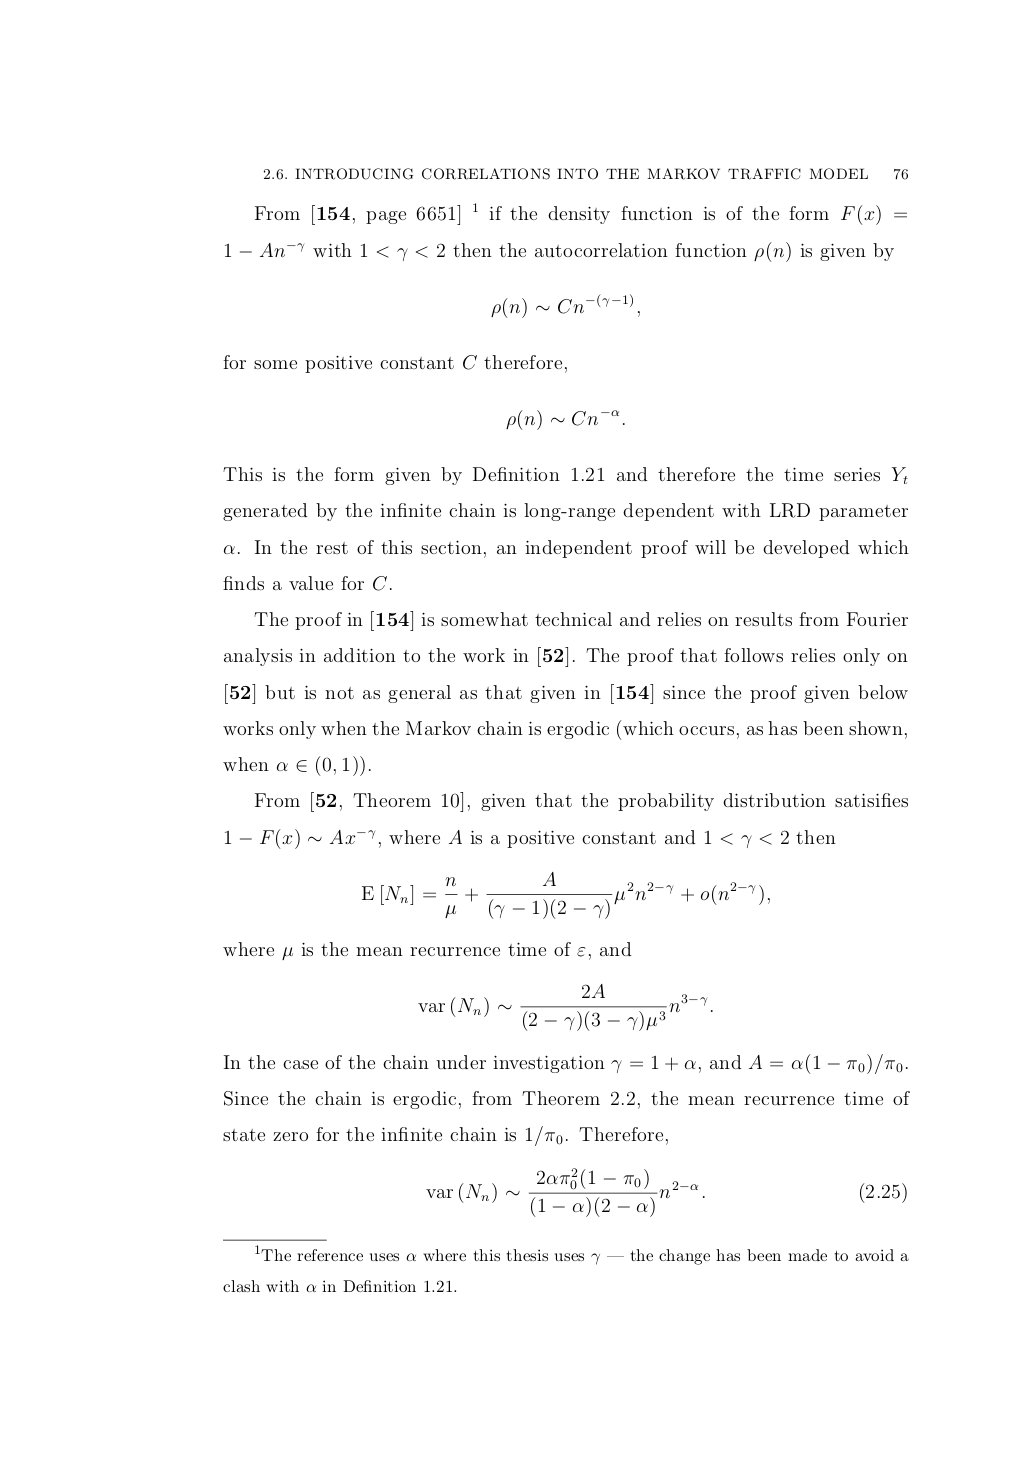figure: (223, 1238, 326, 1241)
formula: (426, 1167, 906, 1217), (362, 870, 769, 919), (418, 982, 712, 1031), (491, 293, 639, 318), (505, 409, 624, 429)
